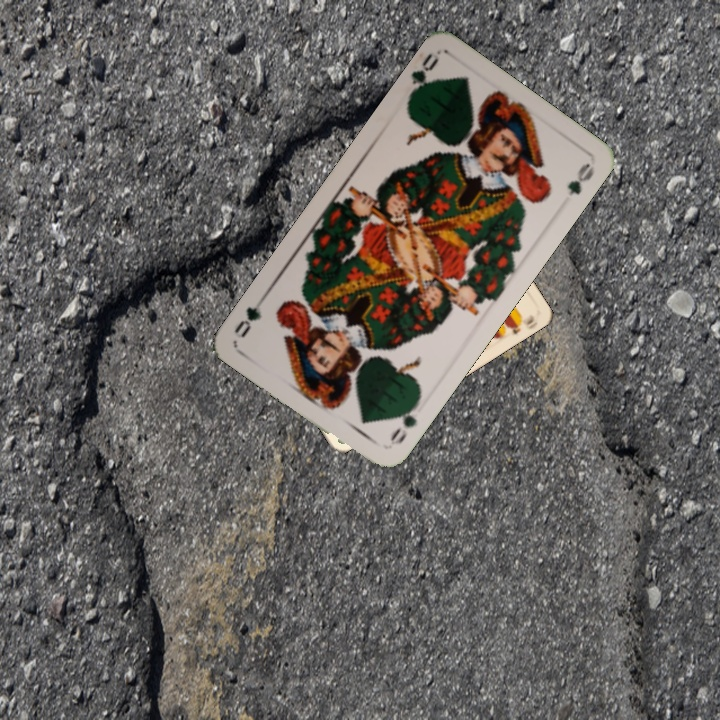GO: (404, 49, 441, 105), (385, 396, 422, 448)
